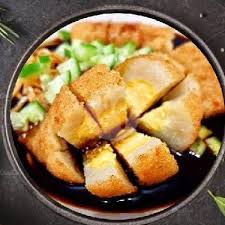Pempek kapal selam: (25, 53, 203, 201)
